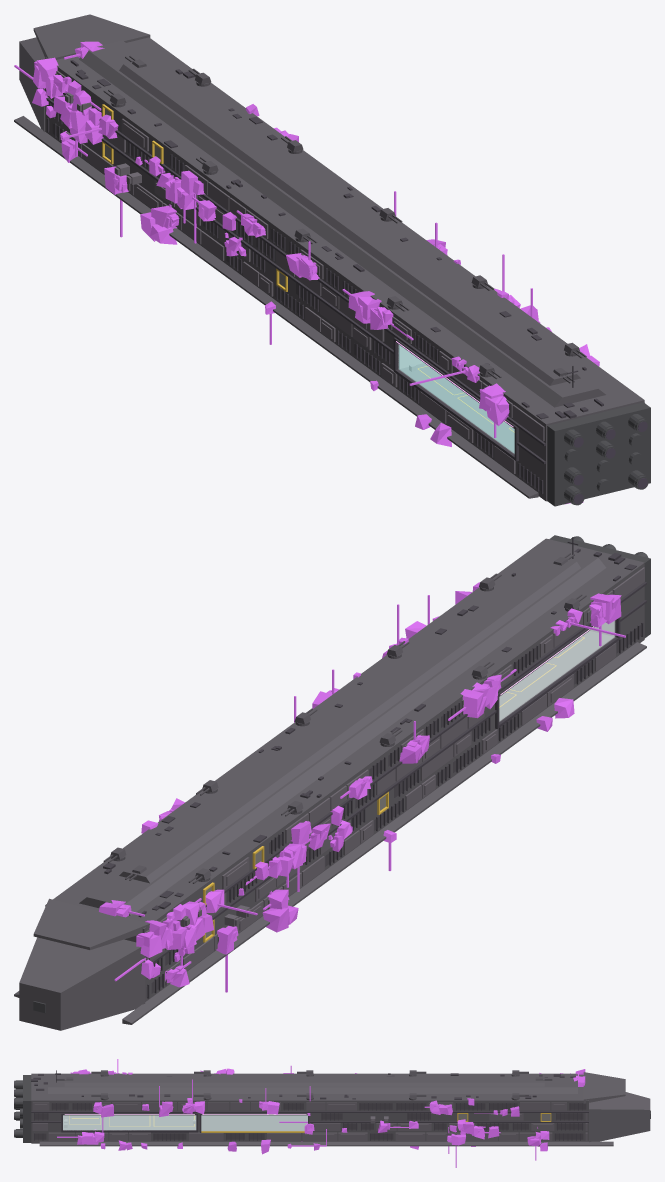
Rendered from ship_XL_v1.glb.
The picture shows the model from 3 angles, top to bottom: view 1: azimuth 30°, elevation 25°; view 2: azimuth 150°, elevation 25°; view 3: azimuth 270°, elevation 25°; orthographic projection. The views are drawn at different scales.
Visible parts, largest first — view 1: XL_Hull-col, XL_Growth, XL_Armor, XL_Engines, XL_Trim, XL_Accent, XL_HangarShield_Port, XL_Decks-col, XL_Details; view 2: XL_Hull-col, XL_Growth, XL_Armor, XL_Trim, XL_Accent, XL_HangarShield_Port, XL_Decks-col, XL_Details, XL_Engines; view 3: XL_Hull-col, XL_Armor, XL_Growth, XL_Trim, XL_Accent, XL_HangarShield_Starboard, XL_Decks-col, XL_CargoBayShield, XL_CargoBayDoor-col, XL_Engines, XL_Hazard, XL_Details (+1 smaller).
Boxes of the visible parts, box(x1,y1,x2,y2) form: XL_Hull-col: box(14, 14, 644, 501); XL_Growth: box(14, 41, 599, 504); XL_Armor: box(45, 70, 544, 473); XL_Engines: box(547, 402, 650, 506); XL_Trim: box(46, 92, 545, 493); XL_Accent: box(47, 102, 543, 492); XL_HangarShield_Port: box(398, 345, 514, 453); XL_Decks-col: box(400, 363, 514, 452); XL_Details: box(70, 60, 603, 419); XL_Hull-col: box(14, 538, 646, 1030); XL_Growth: box(99, 582, 625, 992); XL_Armor: box(145, 567, 644, 985); XL_Trim: box(147, 582, 646, 998); XL_Accent: box(146, 624, 641, 997); XL_HangarShield_Port: box(499, 621, 614, 721); XL_Decks-col: box(499, 631, 613, 720); XL_Details: box(103, 537, 636, 917); XL_Engines: box(33, 535, 650, 1012); XL_Hull-col: box(31, 1072, 650, 1146); XL_Armor: box(32, 1102, 587, 1140); XL_Growth: box(57, 1059, 585, 1167); XL_Trim: box(31, 1102, 588, 1140); XL_Accent: box(34, 1103, 586, 1139); XL_HangarShield_Starboard: box(63, 1115, 196, 1130); XL_Decks-col: box(63, 1115, 196, 1129); XL_CargoBayShield: box(201, 1115, 307, 1130); XL_CargoBayDoor-col: box(201, 1115, 307, 1130); XL_Engines: box(14, 1075, 650, 1142); XL_Hazard: box(69, 1113, 551, 1132); XL_Details: box(31, 1070, 575, 1099).
Size of the model in its own units: 41.23 by 35.23 by 230.
